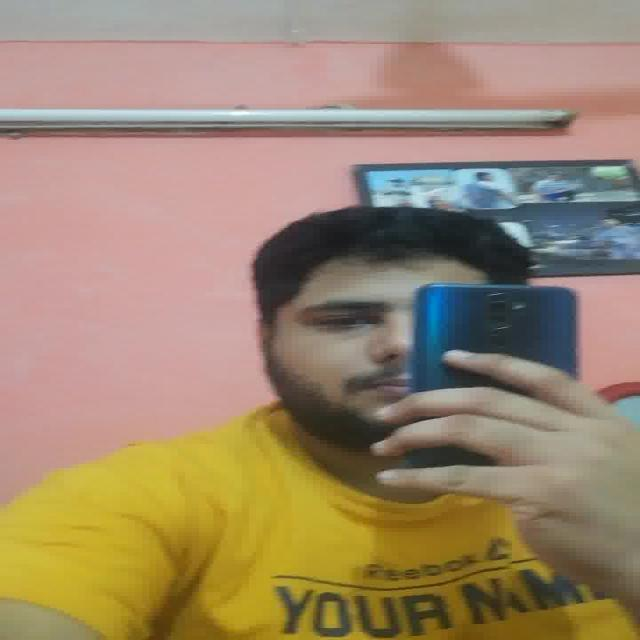Phone: (409, 282, 582, 390)
